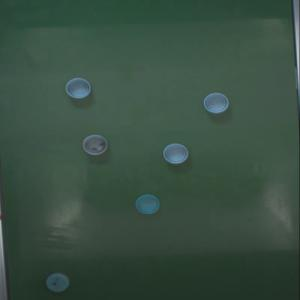light-blue: (205, 93, 230, 114), (82, 135, 108, 155), (66, 78, 91, 98), (135, 194, 160, 214), (164, 144, 188, 164), (45, 273, 70, 292)
